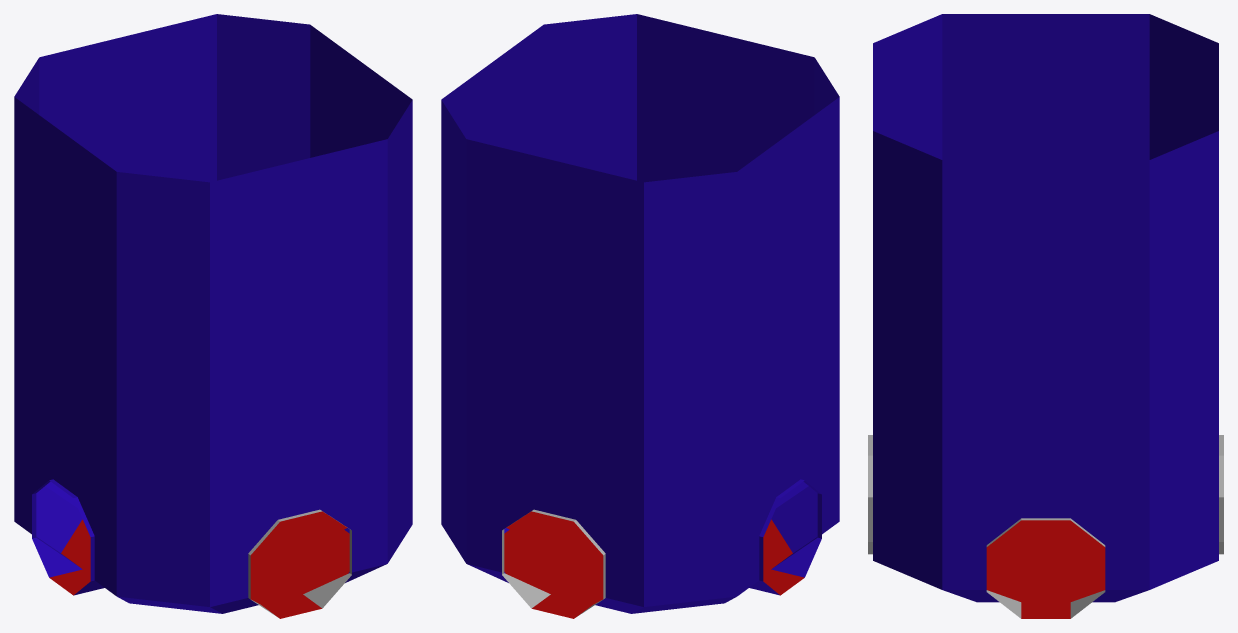
File: Arena Base.fbx
3 renders of one model, left to right at view 1: azimuth 30°, elevation 25°; view 2: azimuth 150°, elevation 25°; view 3: azimuth 270°, elevation 25°, orthographic.
Visible parts, largest first — view 1: Arena_base; view 2: Arena_base; view 3: Arena_base.
Part boxes in pixels (<box>): Arena_base: <box>14,14,412,618</box>; Arena_base: <box>441,14,839,618</box>; Arena_base: <box>868,14,1223,618</box>.
Size of the model in its own units: 72 by 102 by 72.
